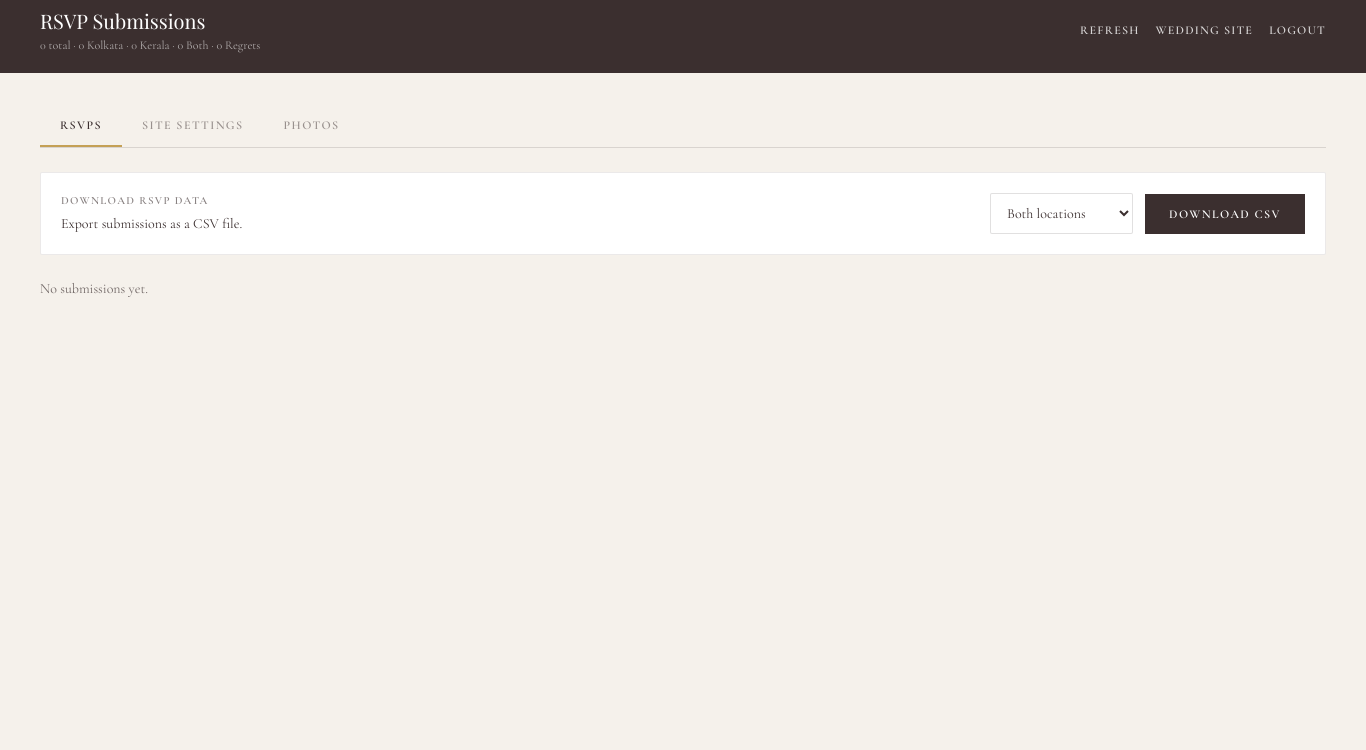
Test case: AdminPage › prevents hiding all events and shows validation error
The image size is (1366, 750).
Click the button "Site Settings" at (193, 126), box [122,105,264,147]
(page scrolled)
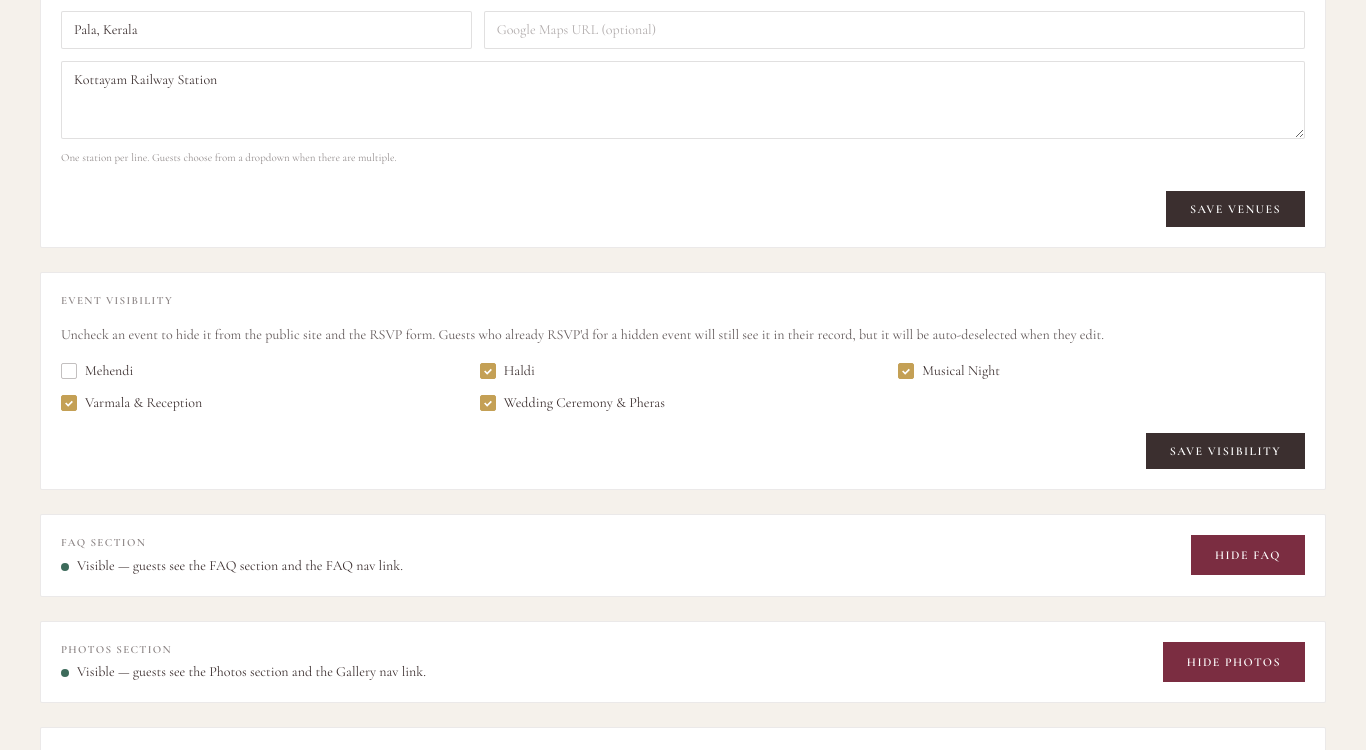
Now the checkbox labelled "Haldi" is shown
Uncheck all remaining visible events
Click the checkbox labelled "Haldi" at (507, 370), box [480,362,535,379]
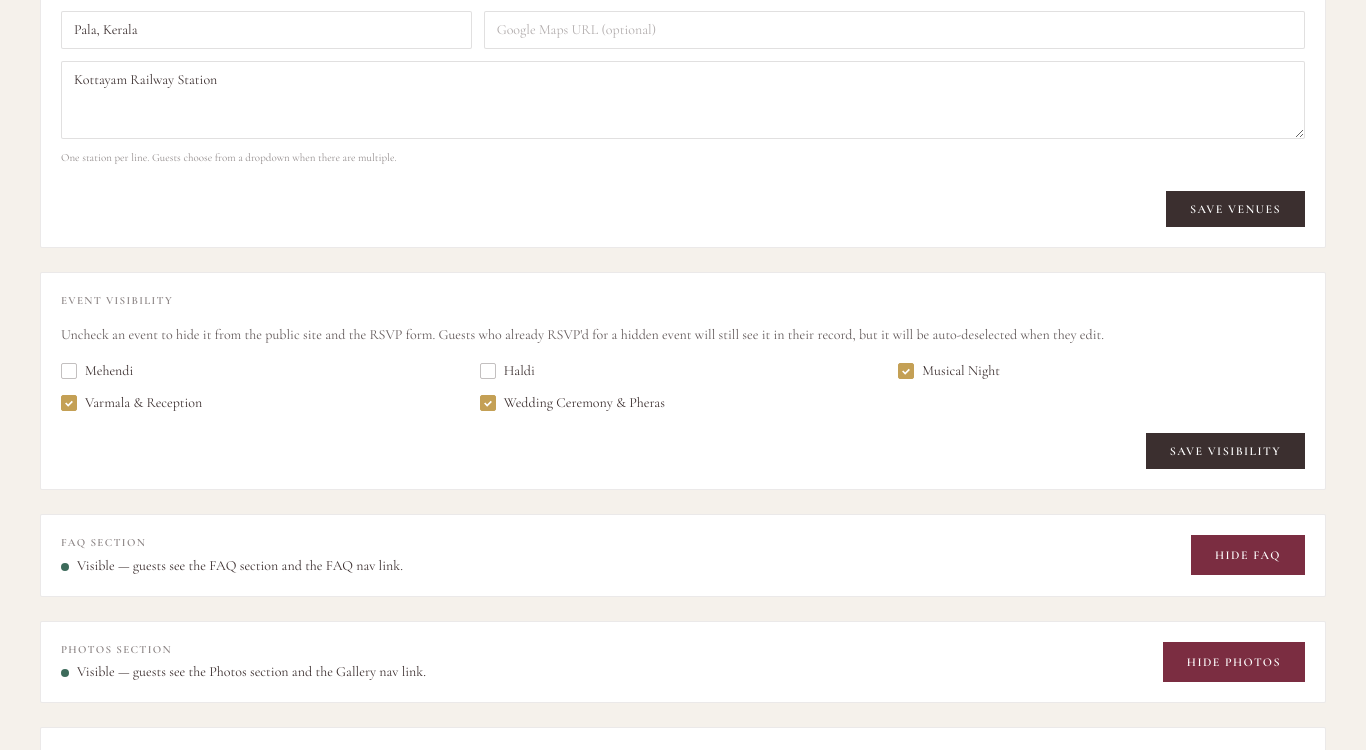
Click the checkbox labelled "Musical Night" at (949, 370), box [898,362,1000,379]
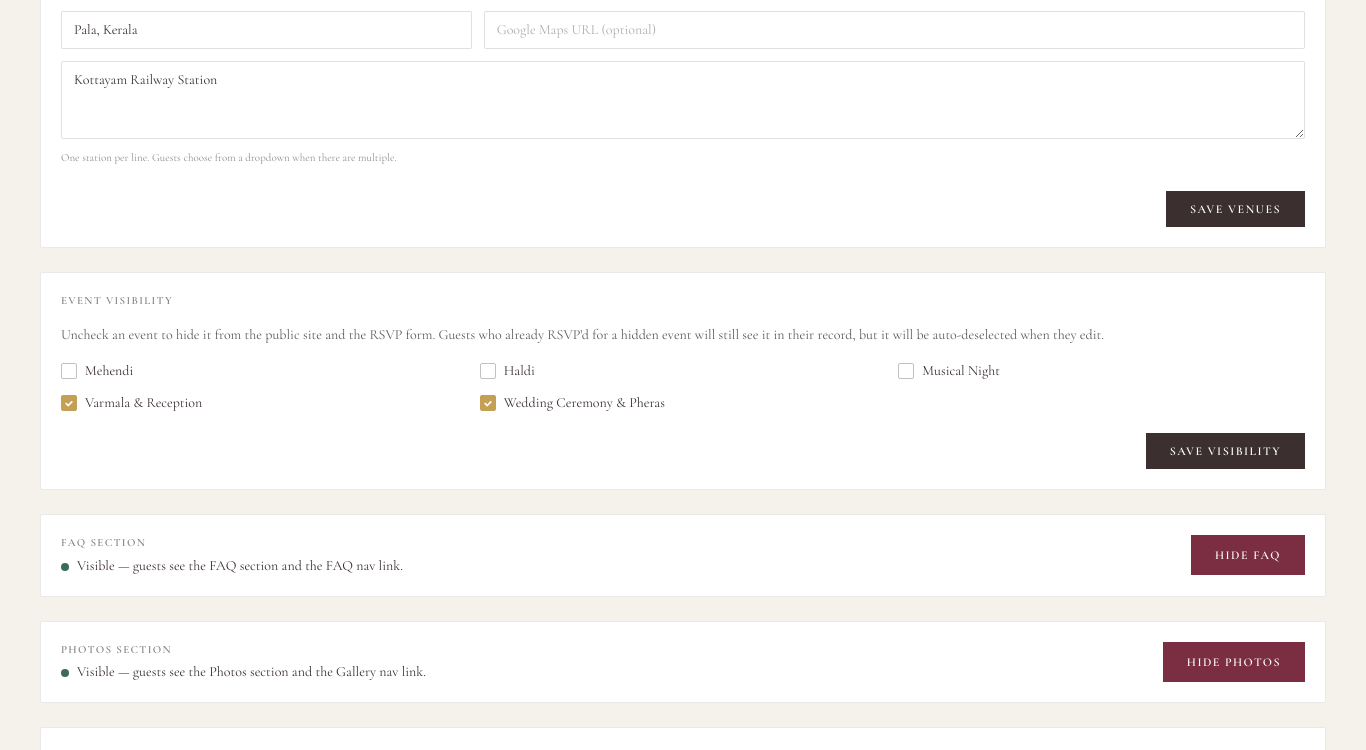
Click the checkbox labelled "Varmala & Reception" at (132, 402), box [61,394,202,411]
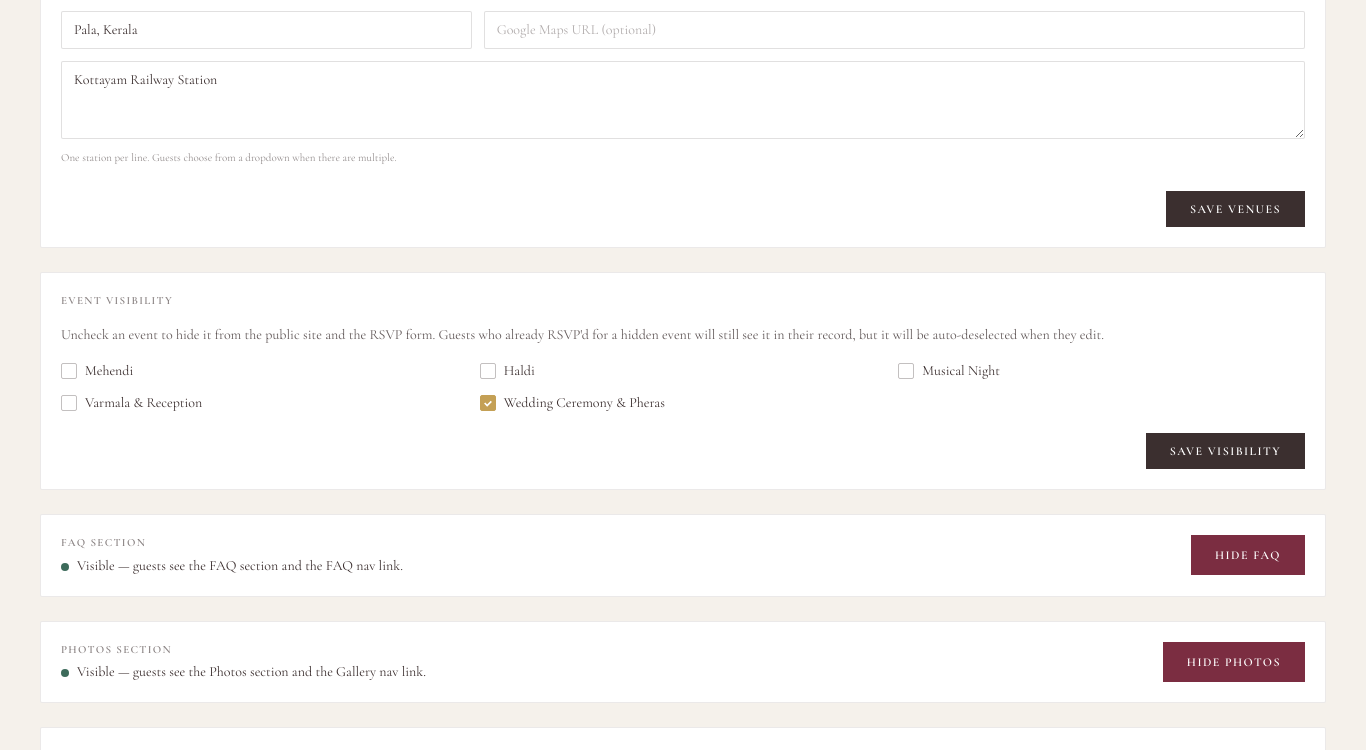
Click the checkbox labelled "Wedding Ceremony & Pheras" at (572, 402), box [480,394,665,411]
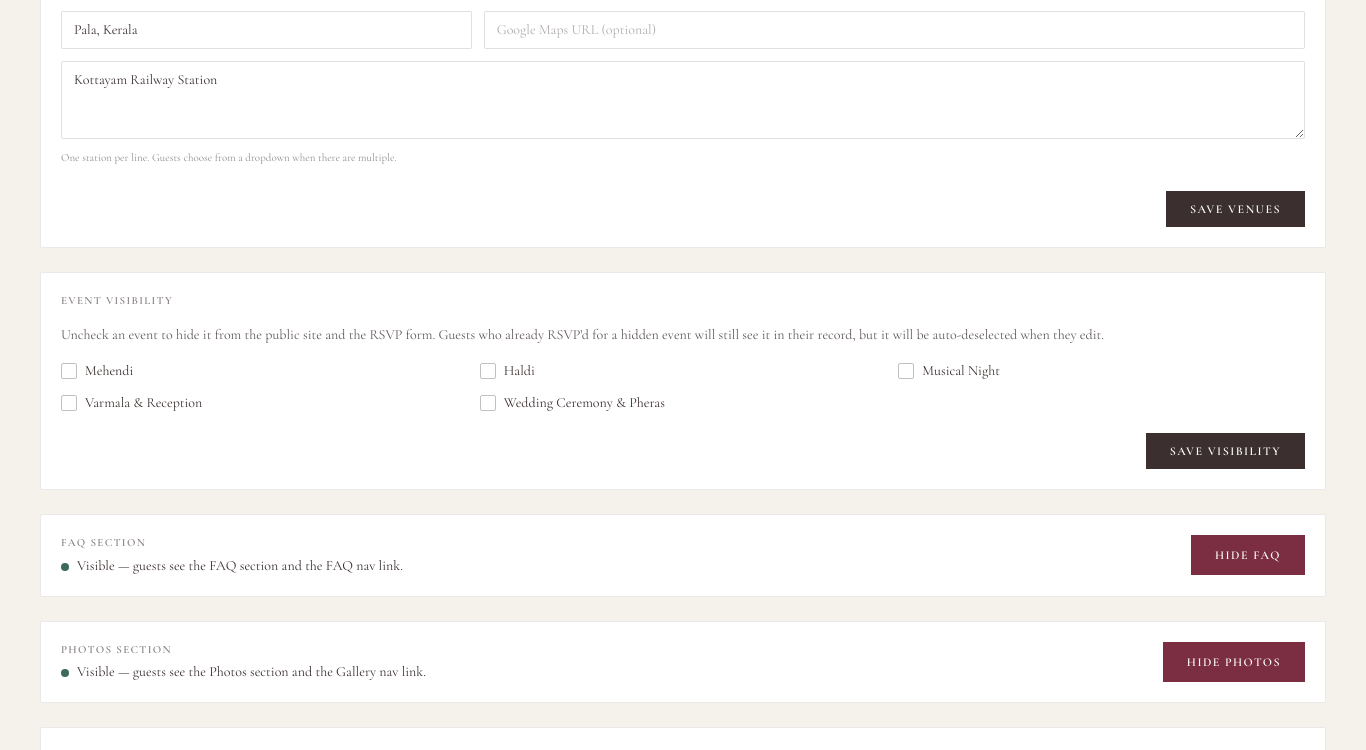
Click the button "Save visibility" at (1225, 451), box [1146,433,1305,469]
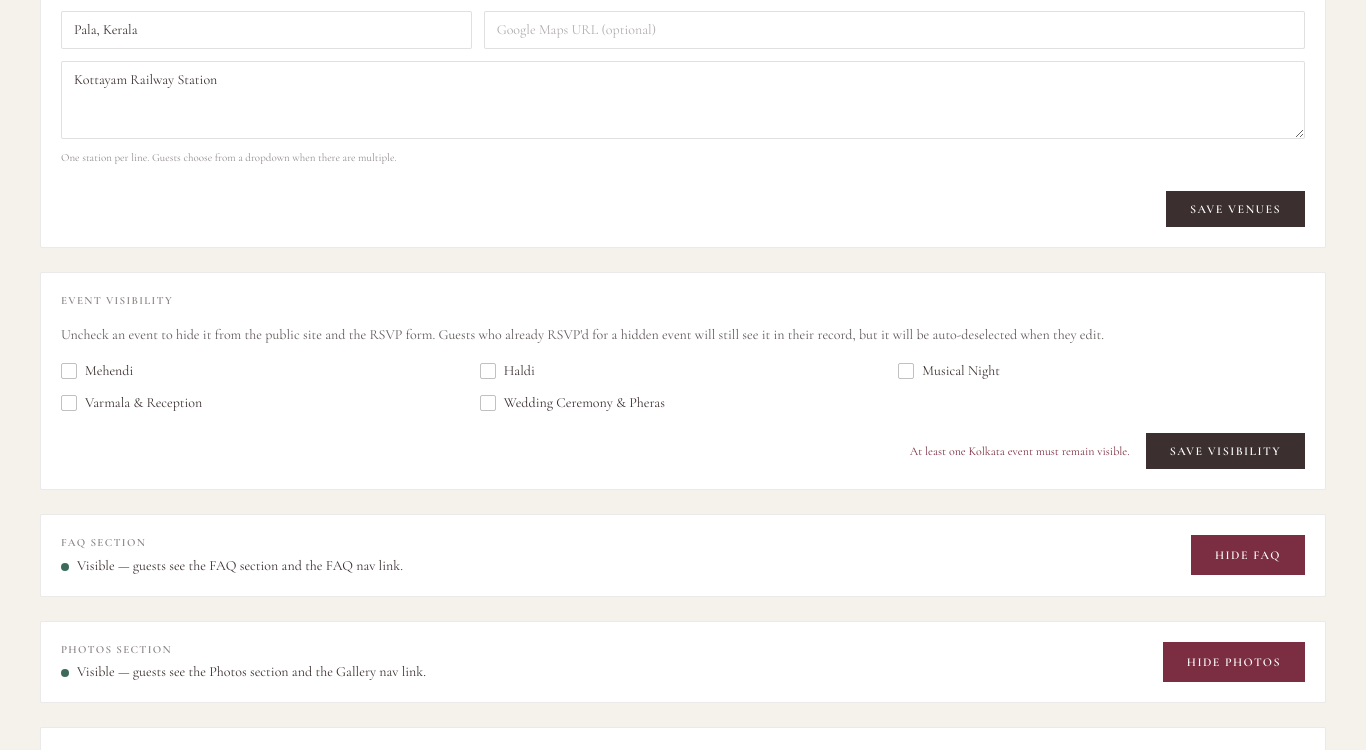
Now the text "At least one Kolkata event must remain visible." is shown, box [910,443,1130,459]
